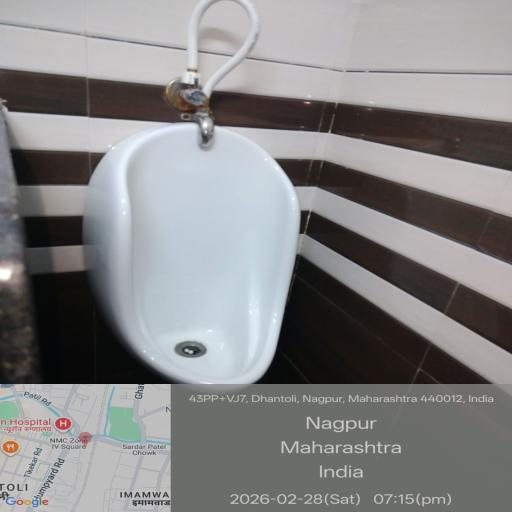clean_floor: (266, 8, 512, 511)
clean_urinal: (68, 109, 369, 392)
